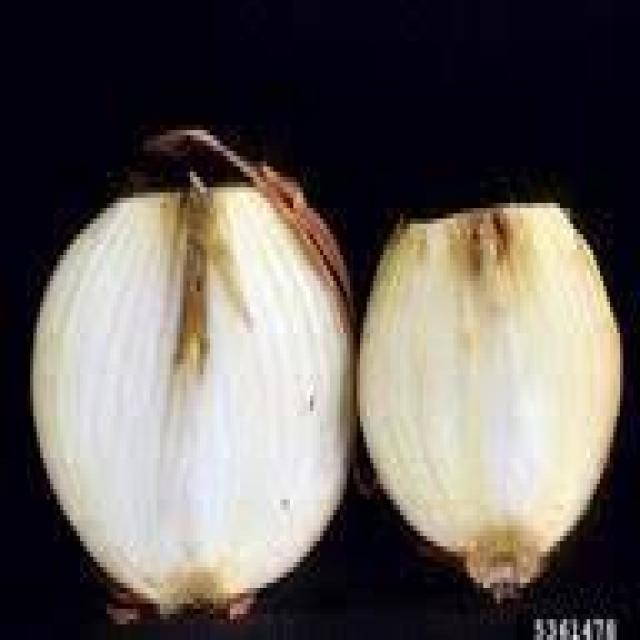Onion: (30, 130, 360, 619), (356, 198, 626, 619)
